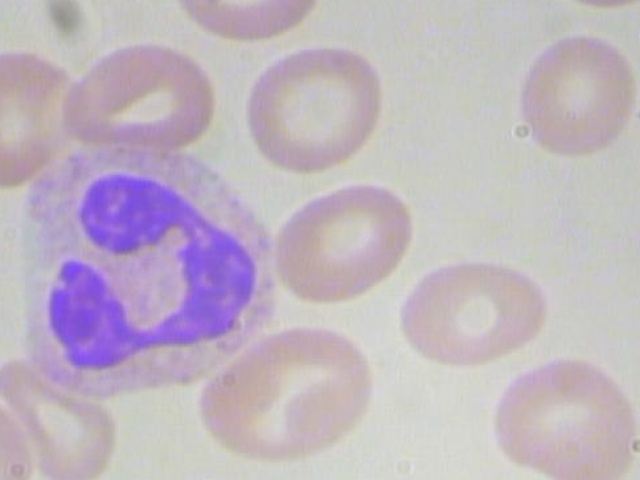RBC: (194, 316, 379, 469), (237, 36, 401, 178), (489, 17, 640, 171), (45, 32, 224, 151), (263, 169, 413, 309), (484, 350, 640, 480), (393, 258, 569, 365), (0, 49, 84, 192), (164, 0, 335, 48), (531, 0, 640, 15)
WBC: (6, 137, 278, 403)
